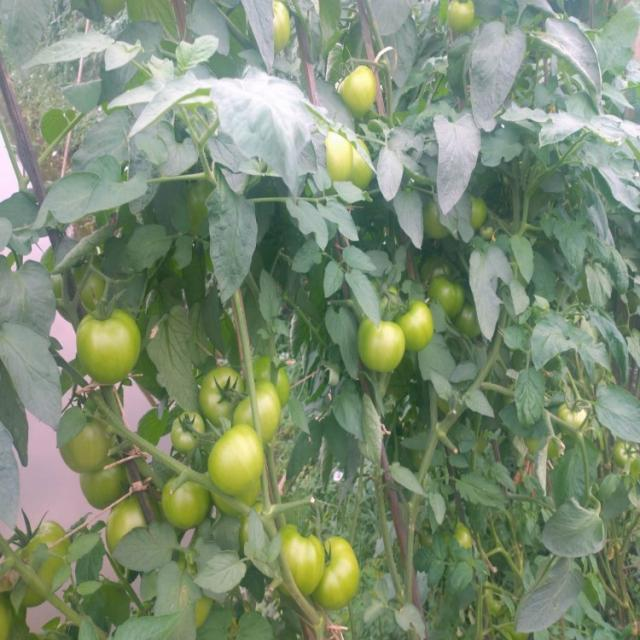tomato: (12, 523, 74, 608), (76, 310, 143, 386), (435, 268, 489, 339), (319, 129, 378, 193), (54, 411, 121, 462), (216, 441, 265, 508), (282, 524, 322, 602), (324, 532, 364, 609), (51, 267, 118, 307), (338, 62, 387, 112), (108, 505, 157, 554), (360, 320, 398, 374), (401, 285, 430, 353), (167, 475, 204, 527), (77, 468, 127, 502), (207, 363, 236, 420), (243, 400, 285, 437), (170, 407, 203, 451), (257, 358, 296, 394), (419, 200, 454, 239), (190, 584, 219, 631), (558, 399, 590, 440), (267, 5, 294, 53), (445, 3, 482, 36), (608, 435, 640, 471), (470, 189, 492, 232), (486, 583, 507, 621), (456, 522, 477, 555)
